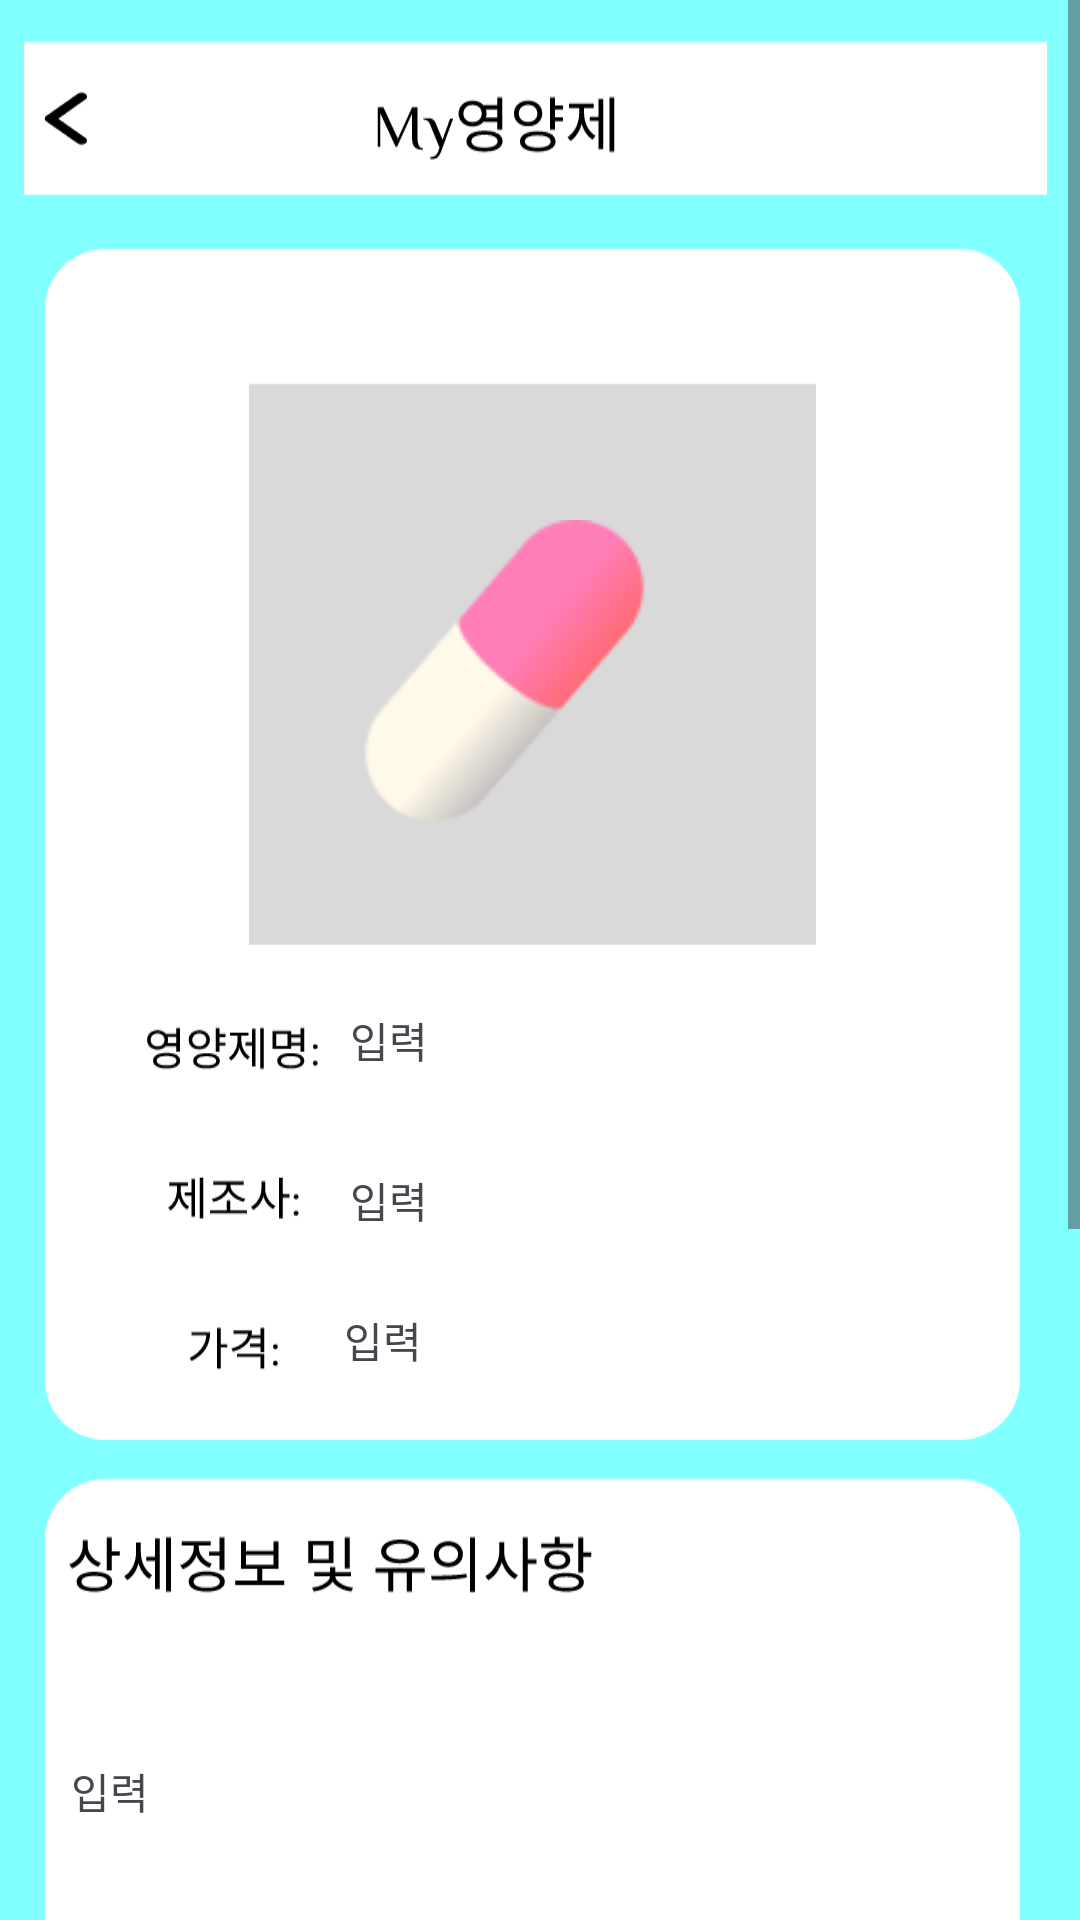

Where to tap for icons on this 1080x1920 app screen, as [x,y]:
pill: [505,666]
